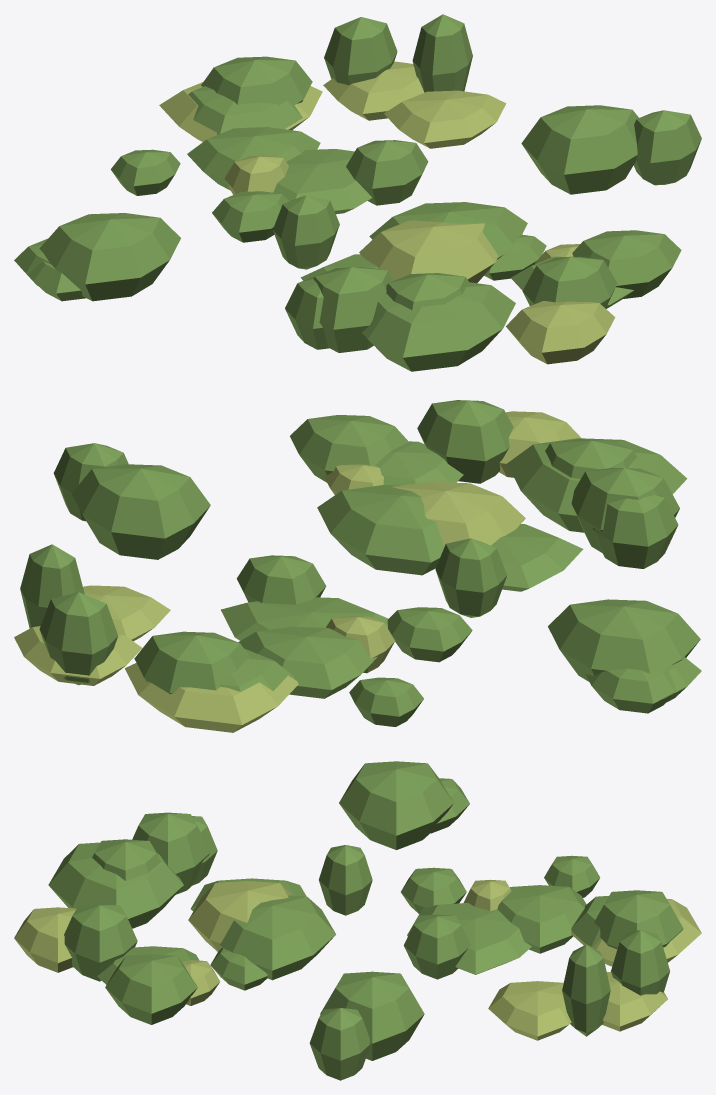
Rendered from green-thread-moss.glb.
3 views of the same model, one above another, from view 1: azimuth 30°, elevation 25°; view 2: azimuth 150°, elevation 25°; view 3: azimuth 270°, elevation 25° (orthographic). The views are drawn at different scales.
Visible parts, largest first — view 1: green-thread-moss; view 2: green-thread-moss; view 3: green-thread-moss.
Boxes of the visible parts, x1,y1,x2,y2 form: green-thread-moss: (14, 14, 701, 371); green-thread-moss: (14, 400, 701, 732); green-thread-moss: (14, 761, 701, 1080).
Size of the model in its own units: 0.3253 by 0.0482 by 0.3254.
